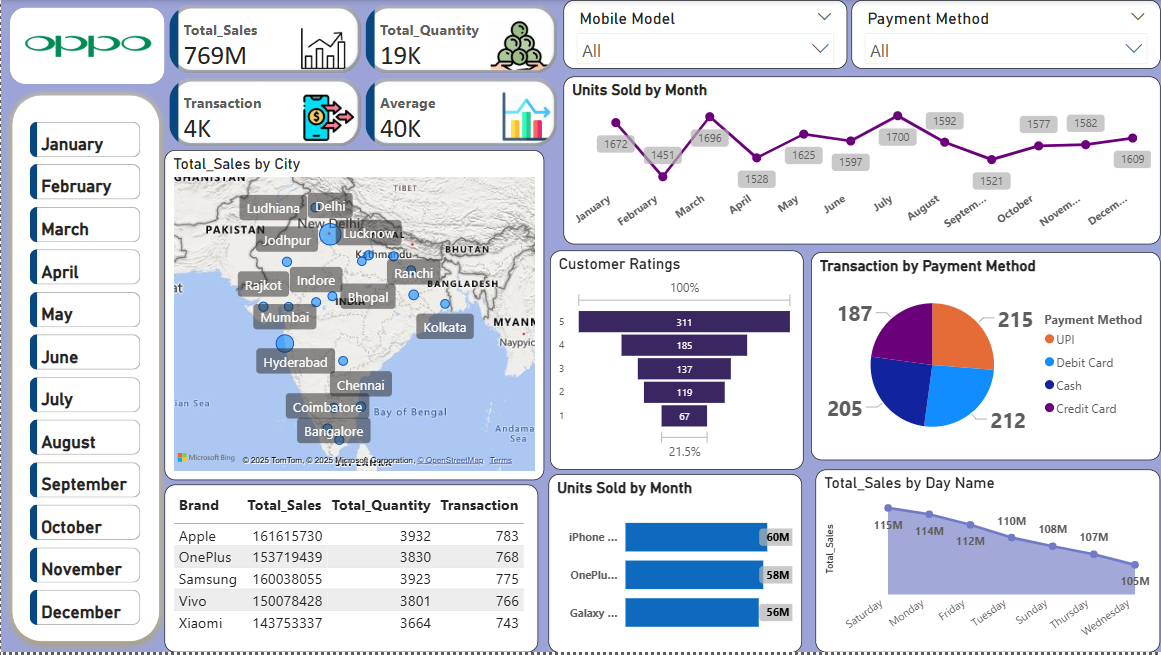

The page's visual inventory and layout, read from the dashboard file:
{"tool":"powerbi","page":{"name":"Dashboard","canvas":[1280,720],"ordinal":0},"visuals":[{"type":"shape","box":[9.9,8.3,170.6,84.5],"z":0},{"type":"image","box":[3.3,3.3,187.2,92.8],"z":1000},{"type":"shape","box":[0,92.8,187.2,627.8],"z":2000},{"type":"advancedSlicerVisual","fields":{"Values":["Sales_Data.Date.Variation.Date Hierarchy.Month"]},"box":[26.5,129.2,132.5,566.5],"z":3000},{"type":"cardVisual","fields":{"Data":["Sales_Data.Total_Sales","Sales_Data.Total_Quantity","Sales_Data.Transaction","Sales_Data.Average"]},"box":[180.6,0,440.6,167.3],"z":4000},{"type":"map","fields":{"Category":["Sales_Data.City"],"Size":["Sales_Data.Total_Sales"]},"box":[180.6,165.6,419.1,364.4],"z":5000},{"type":"lineChart","title":"Units Sold by Month","fields":{"Y":["Sales_Data.Total_Quantity"],"Category":["Sales_Data.Date.Variation.Date Hierarchy.Month","Sales_Data.Date.Variation.Date Hierarchy.Day"]},"box":[621.2,84.5,659.3,185.5],"z":6000},{"type":"clusteredBarChart","title":"Units Sold by Month","fields":{"Category":["Sales_Data.Mobile Model"],"Y":["Sales_Data.Total_Sales"]},"box":[604.6,523.4,279.9,197.1],"z":7000},{"type":"pieChart","title":"Transaction by Payment Method","fields":{"Category":["Sales_Data.Payment Method"],"Y":["Sales_Data.Transaction"]},"box":[894.5,278.3,386,230.3],"z":8000},{"type":"funnel","title":"Customer Ratings","fields":{"Category":["Sales_Data.Customer Ratings"],"Y":["CountNonNull(Sales_Data.Customer Ratings)"]},"box":[606.3,276.6,279.9,241.8],"z":9000},{"type":"areaChart","fields":{"Category":["Sales_Data.Day Name"],"Y":["Sales_Data.Total_Sales"]},"box":[899.5,518.5,381,202.1],"z":10000},{"type":"tableEx","fields":{"Values":["Sales_Data.Brand","Sales_Data.Total_Sales","Sales_Data.Total_Quantity","Sales_Data.Transaction"]},"box":[180.6,535,412.5,185.5],"z":10001},{"type":"slicer","fields":{"Values":["Sales_Data.Mobile Model"]},"box":[621.2,0,313.1,76.2],"z":10002},{"type":"slicer","fields":{"Values":["Sales_Data.Payment Method"]},"box":[939.2,0,341.2,76.2],"z":10003}]}

Visuals, with their boxes in screenshot pixels (x1, y1, x2, y2), scaled from the page's 1280x720 canvas onto the 1161x655 screenshot:
shape: <box>9,8,164,84</box>
image: <box>3,3,173,87</box>
shape: <box>0,84,170,654</box>
advancedSlicerVisual - Sales_Data.Date.Variation.Date Hierarchy.Month: <box>24,118,144,633</box>
cardVisual - Sales_Data.Total_Sales x Sales_Data.Total_Quantity: <box>164,0,563,152</box>
map - Sales_Data.City x Sales_Data.Total_Sales: <box>164,151,544,482</box>
"Units Sold by Month" lineChart: <box>563,77,1160,246</box>
"Units Sold by Month" clusteredBarChart: <box>548,476,802,654</box>
"Transaction by Payment Method" pieChart: <box>811,253,1160,463</box>
"Customer Ratings" funnel: <box>550,252,804,472</box>
areaChart - Sales_Data.Day Name x Sales_Data.Total_Sales: <box>816,472,1160,654</box>
tableEx - Sales_Data.Brand x Sales_Data.Total_Sales: <box>164,487,538,654</box>
slicer - Sales_Data.Mobile Model: <box>563,0,847,69</box>
slicer - Sales_Data.Payment Method: <box>852,0,1160,69</box>
